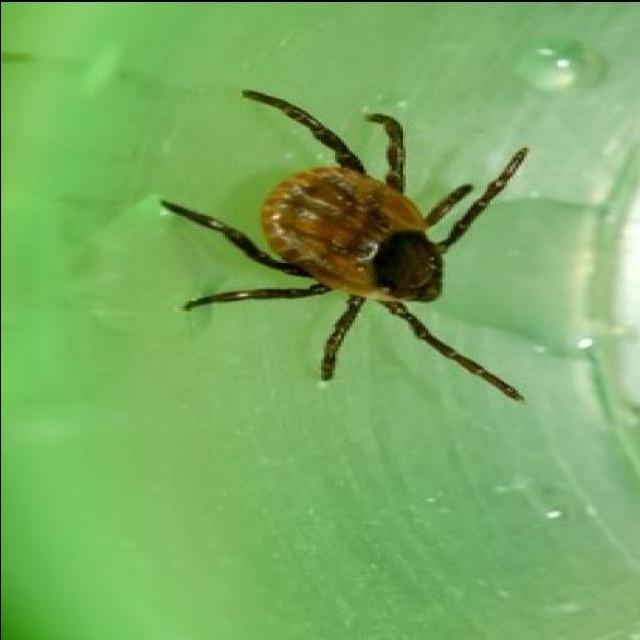Rhipicephalus Sanguineus-F: (165, 91, 523, 398)
